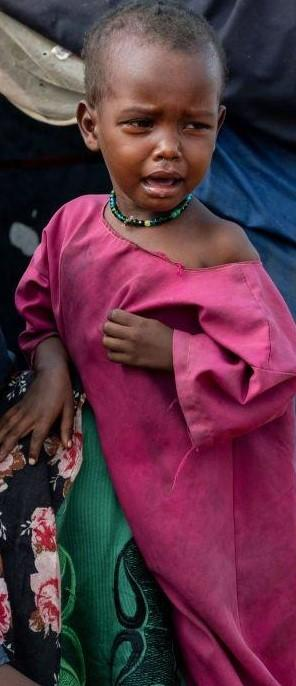Stunting: (95, 28, 247, 243)
